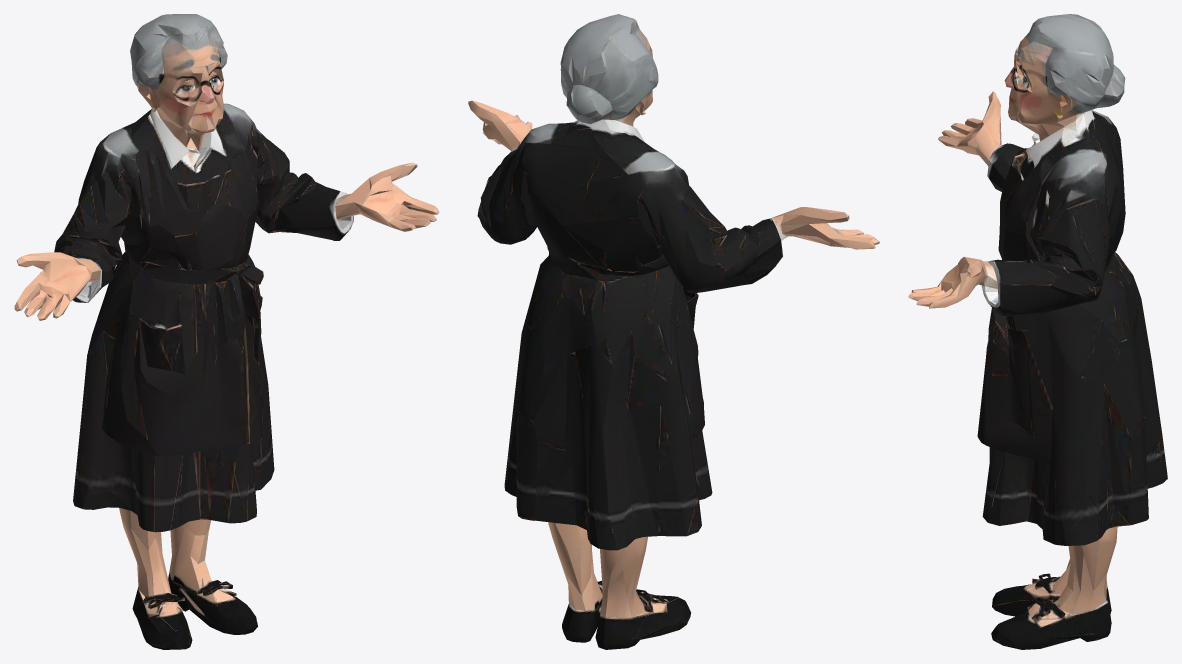
Rendered from nonna.glb.
The picture shows the model from 3 angles, left to right: view 1: azimuth 30°, elevation 25°; view 2: azimuth 150°, elevation 25°; view 3: azimuth 270°, elevation 25°; orthographic projection.
Bounding box in the file's own units: 1.34 × 1.9 × 0.7384.
Materials: 1 (1 with a texture image).
